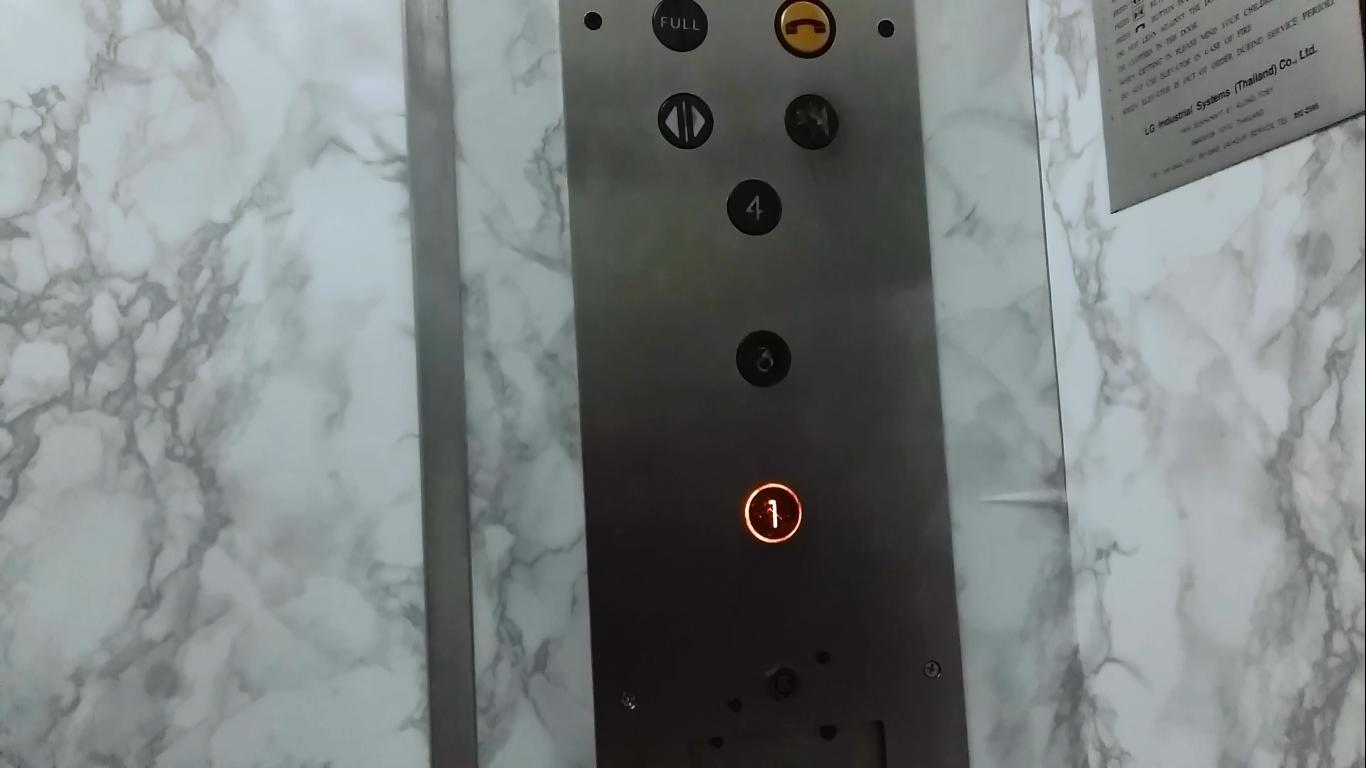1: (743, 481, 801, 545)
3: (731, 327, 793, 388)
4: (723, 176, 783, 238)
blur: (782, 90, 841, 148)
call: (771, 0, 837, 60)
open: (657, 91, 713, 150)
unknown: (649, 0, 708, 54)
